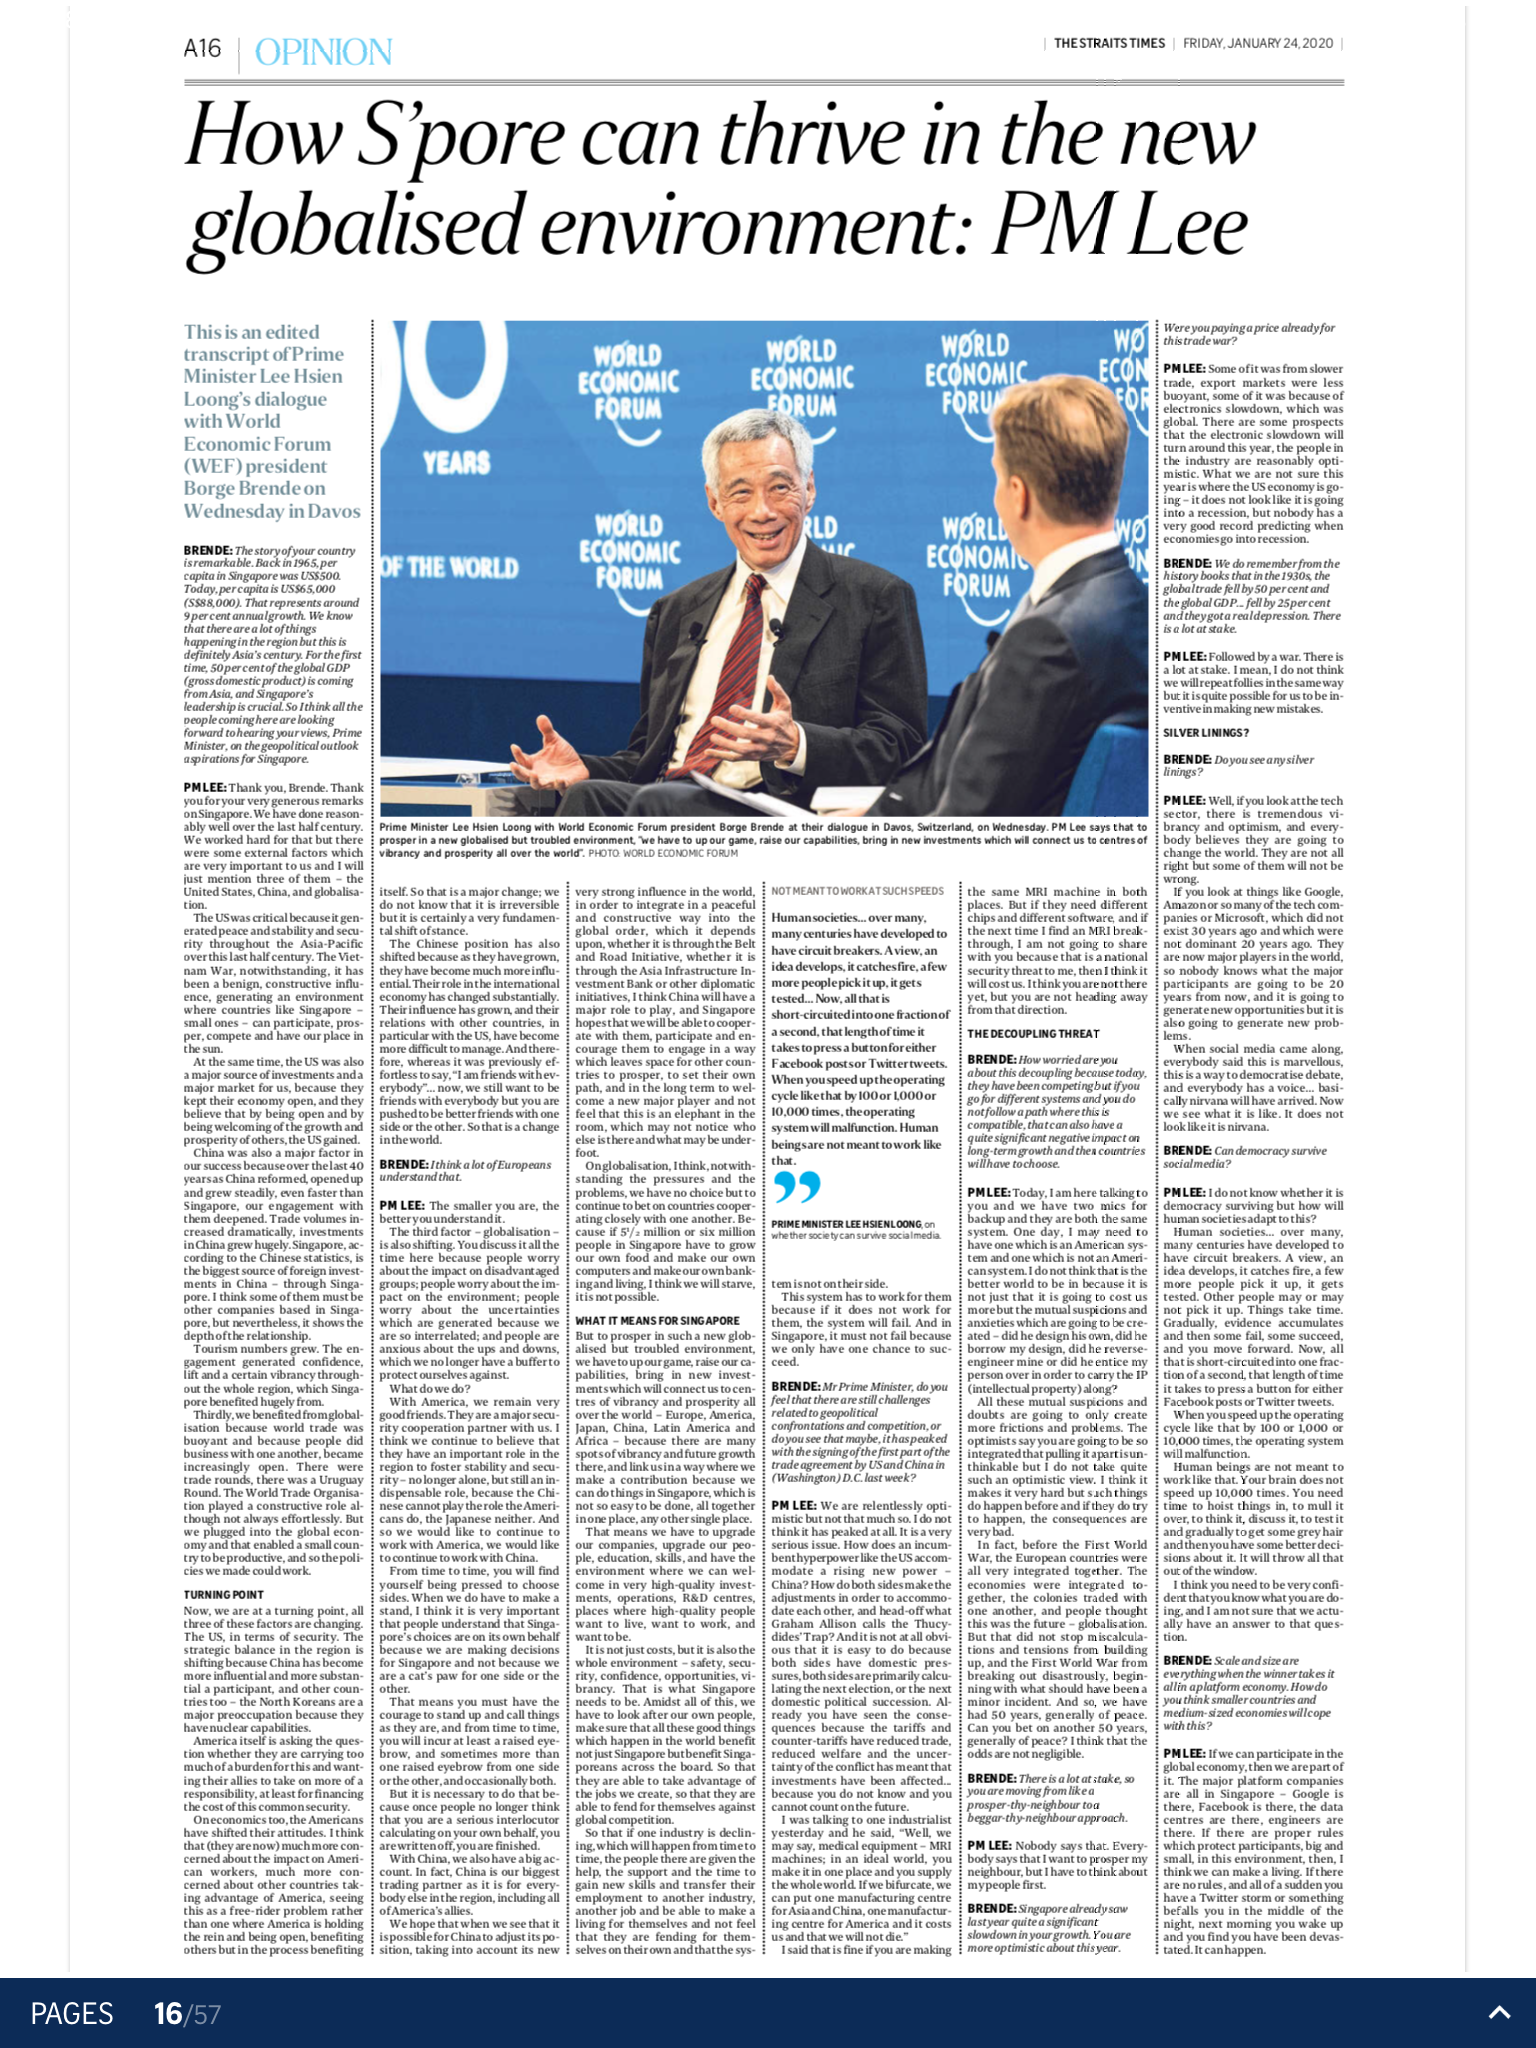Headline: (187, 94, 1260, 277)
Illustration: (381, 818, 1155, 860)
Image: (381, 323, 1150, 814)
Text: (1163, 319, 1349, 1959), (181, 540, 365, 1959), (771, 882, 957, 1963), (578, 882, 758, 1959), (968, 880, 1149, 1958), (381, 882, 558, 1959)
